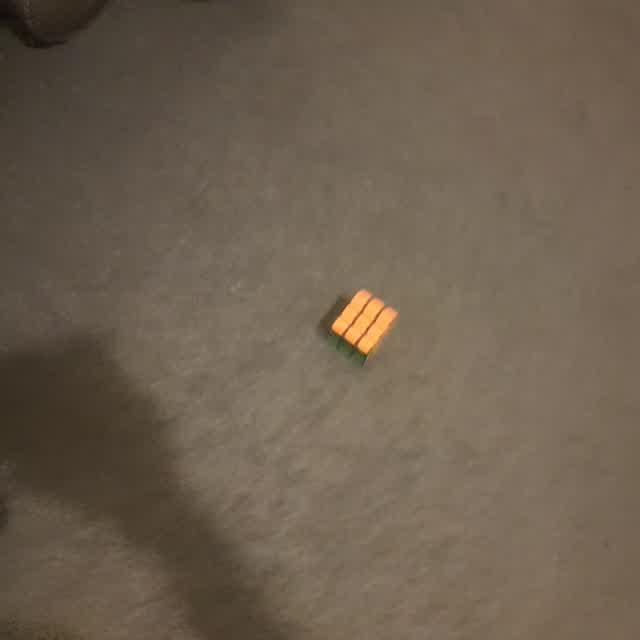rubix_cube: (326, 287, 400, 365)
